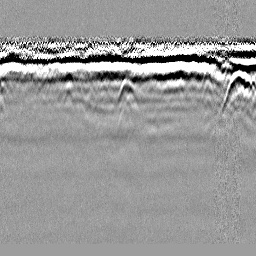cavity: (116, 78, 139, 104)
